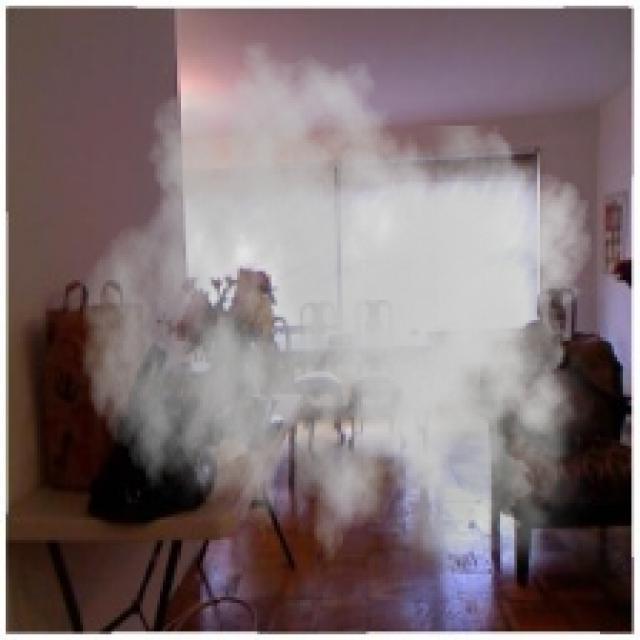smoke: (80, 40, 609, 597)
